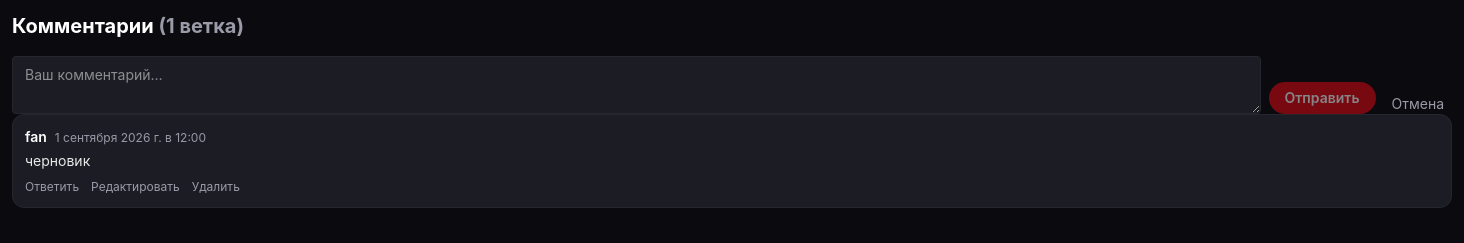
Comments › редактирование меняет текст на месте
This screenshot has width=1464, height=243.
Click the button with test id "edit-comment": point(135, 187) [91,179,180,195]
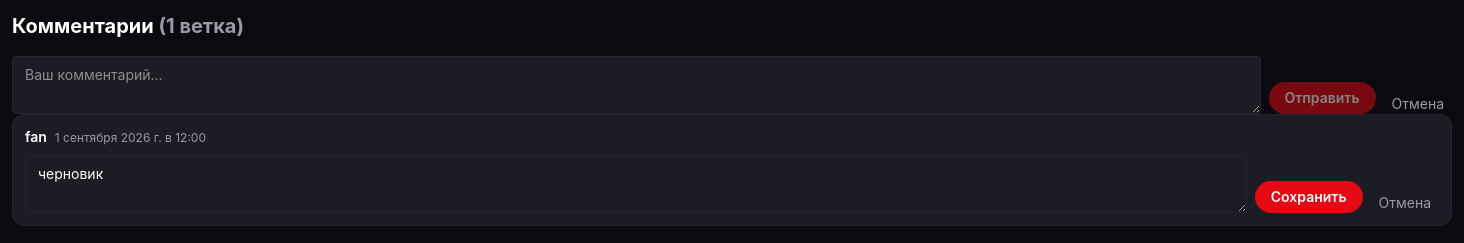
Replace the text in the text box with test id "edit-form-input" with "готово": point(636, 184) [25,155,1247,213]
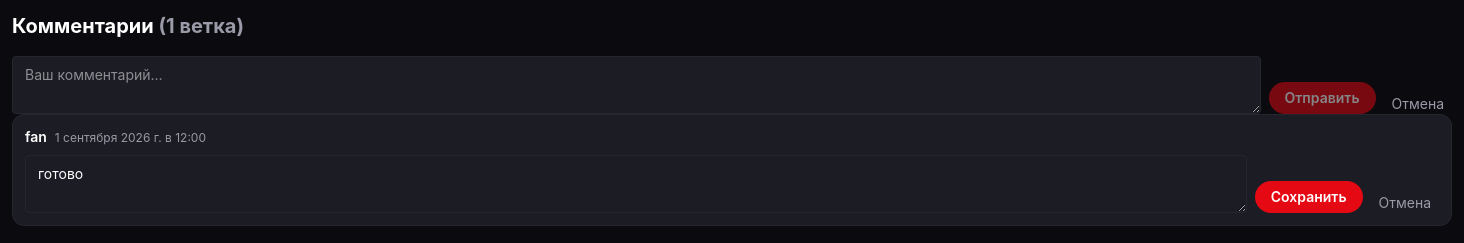
Click the button with test id "edit-form-submit": point(1309, 197) [1255,181,1362,213]
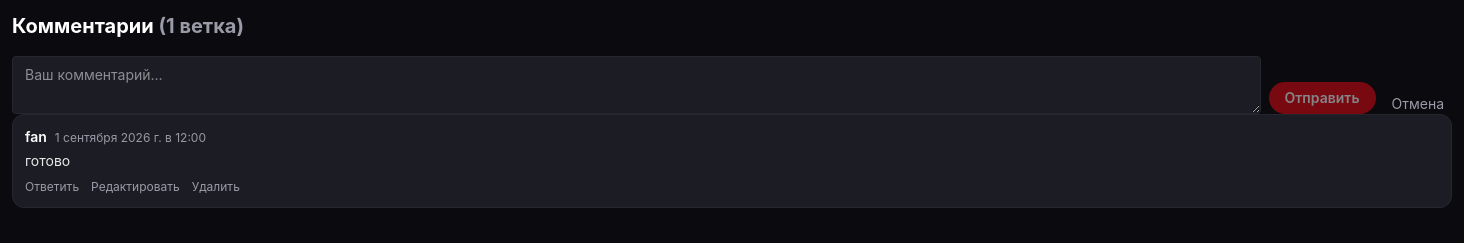
Expected: the text "готово" is shown, [25,152,70,169]
